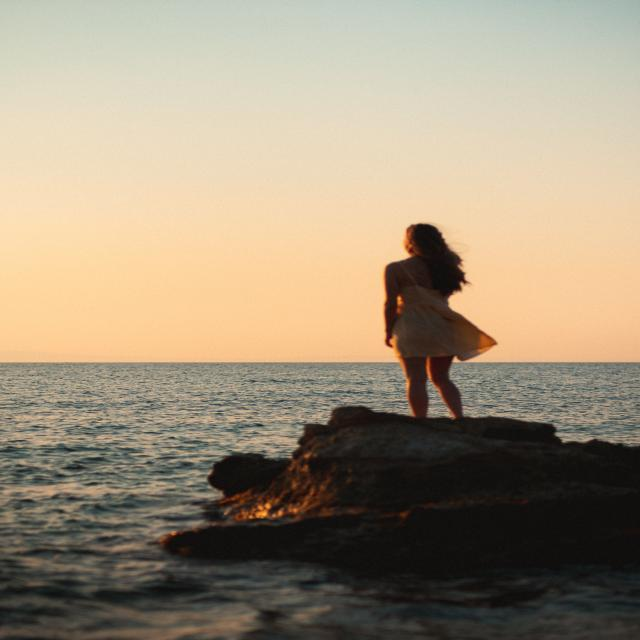standing: (376, 220, 505, 423)
